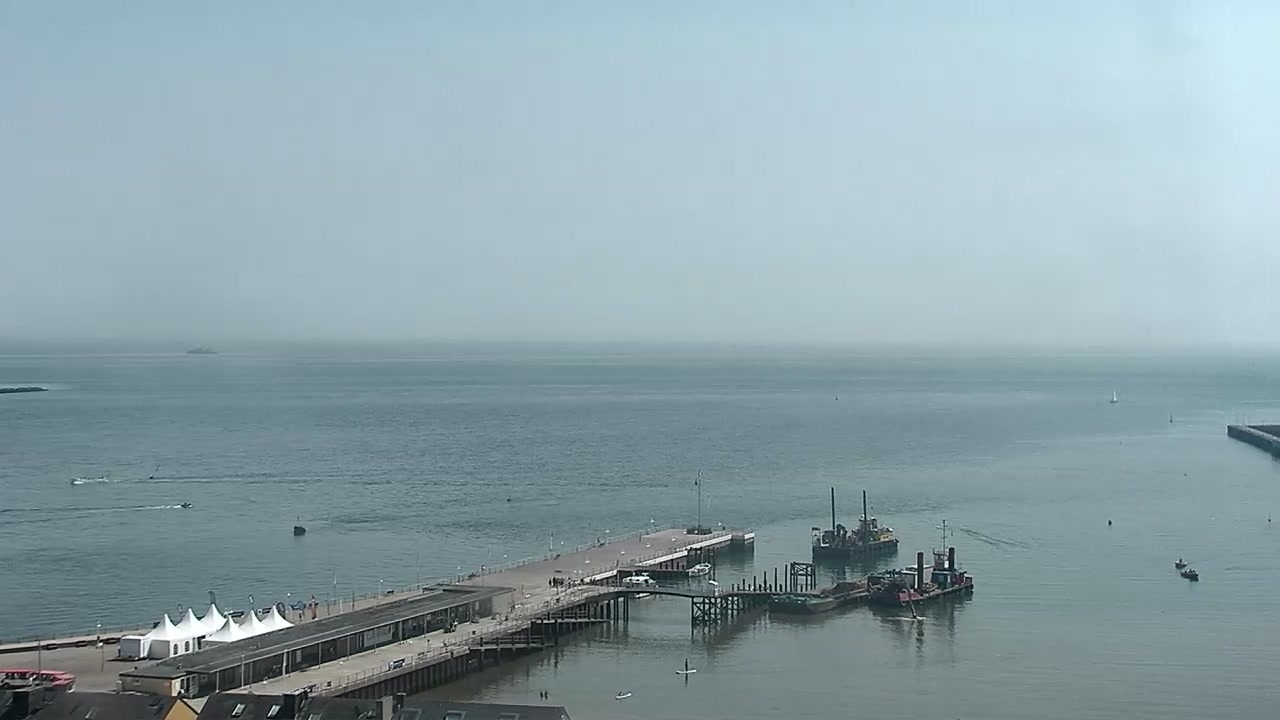human: (452, 618, 458, 630), (567, 575, 572, 588), (552, 574, 557, 586), (548, 577, 553, 588)
land: (1, 668, 36, 690)
sea: (866, 516, 974, 609), (767, 565, 906, 615), (810, 486, 900, 558), (619, 569, 659, 598), (684, 561, 713, 579), (183, 342, 218, 354), (675, 657, 698, 674), (1179, 566, 1199, 578), (1173, 555, 1189, 567), (614, 690, 633, 700), (70, 474, 86, 485), (1109, 389, 1118, 403), (179, 501, 193, 509)
